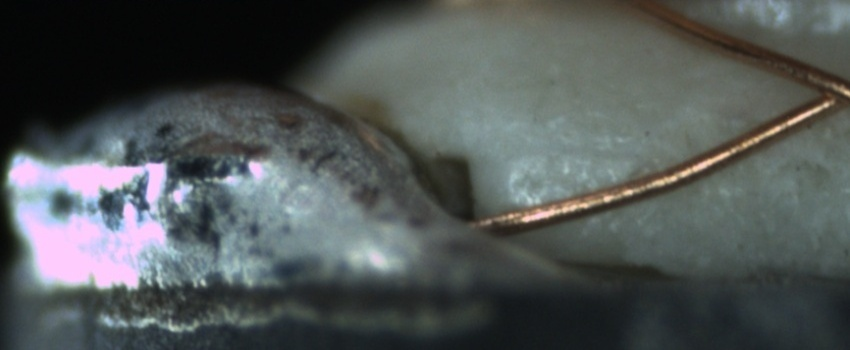CL: (792, 60, 849, 119)
DL: (510, 121, 649, 185)
